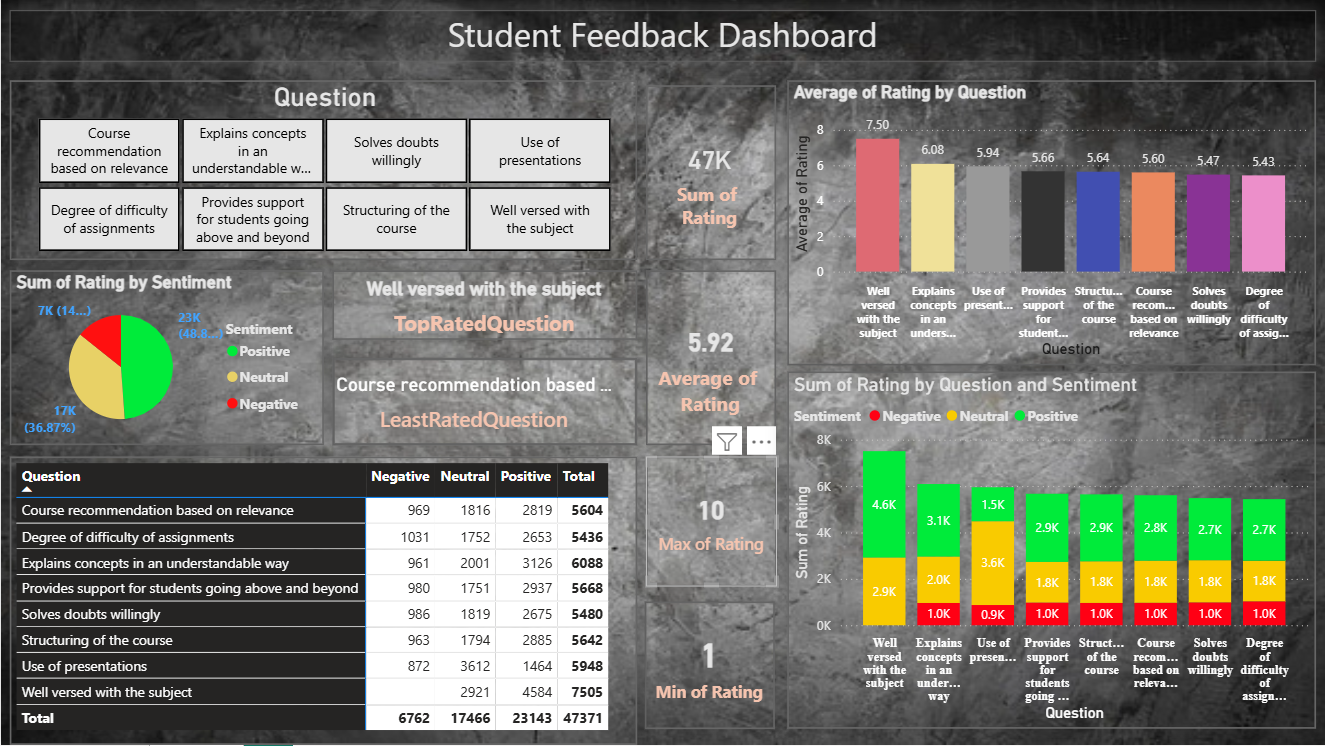

The dashboard page shown, as its layout file describes it:
{"tool":"powerbi","page":{"name":"Page 1","canvas":[1280,720],"ordinal":0},"visuals":[{"type":"columnChart","fields":{"Category":["student_feedback.Question"],"Y":["Avg(student_feedback.Rating)"]},"box":[758.9,78.4,510.3,275.1],"z":0},{"type":"card","title":"Av","fields":{"Values":["Avg(student_feedback.Rating)"]},"box":[622.5,261.8,125.5,168.9],"z":1000},{"type":"card","fields":{"Values":["AVGRatingsTable.TopRatedQuestion"]},"box":[319.7,261.8,294.4,67.6],"z":2000},{"type":"card","fields":{"Values":["Min(student_feedback.Rating)"]},"box":[621.3,581.5,125.5,123.1],"z":3000},{"type":"slicer","title":"Question","fields":{"Values":["student_feedback.Question"]},"box":[8.4,78.4,605.6,173.7],"z":4000},{"type":"card","fields":{"Values":["Sum(student_feedback.Rating)"]},"box":[622.5,83.2,125.5,168.9],"z":5000},{"type":"card","fields":{"Values":["AVGRatingsTable.LeastRatedQuestion"]},"box":[319.7,346.2,294.4,84.5],"z":6000},{"type":"card","fields":{"Values":["Max(student_feedback.Rating)"]},"box":[622.5,441.6,126.7,125.5],"z":7000},{"type":"pieChart","fields":{"Category":["student_feedback.Sentiment"],"Y":["Sum(student_feedback.Rating)"]},"box":[8.4,261.8,302.8,168.9],"z":8000},{"type":"columnChart","fields":{"Y":["Sum(student_feedback.Rating)"],"Category":["student_feedback.Question"],"Series":["student_feedback.Sentiment"]},"box":[758.9,359.5,510.3,345],"z":9000},{"type":"textbox","box":[8.4,10.9,1260.7,49.5],"z":10000},{"type":"pivotTable","fields":{"Rows":["student_feedback.Question"],"Values":["Sum(student_feedback.Rating)"],"Columns":["student_feedback.Sentiment"]},"box":[8.4,441.6,605.6,278.7],"z":10001}]}

Visuals, with their boxes in screenshot pixels (x1, y1, x2, y2), scaled from the page's 1280x720 canvas onto the 1325x746 screenshot:
columnChart - student_feedback.Question x Avg(student_feedback.Rating): BBox(786, 81, 1314, 366)
"Av" card: BBox(644, 271, 774, 446)
card - AVGRatingsTable.TopRatedQuestion: BBox(331, 271, 636, 341)
card - Min(student_feedback.Rating): BBox(643, 602, 773, 730)
"Question" slicer: BBox(9, 81, 636, 261)
card - Sum(student_feedback.Rating): BBox(644, 86, 774, 261)
card - AVGRatingsTable.LeastRatedQuestion: BBox(331, 359, 636, 446)
card - Max(student_feedback.Rating): BBox(644, 458, 776, 588)
pieChart - student_feedback.Sentiment x Sum(student_feedback.Rating): BBox(9, 271, 322, 446)
columnChart - Sum(student_feedback.Rating) x student_feedback.Question: BBox(786, 372, 1314, 730)
textbox: BBox(9, 11, 1314, 63)
pivotTable - student_feedback.Question x Sum(student_feedback.Rating): BBox(9, 458, 636, 745)
